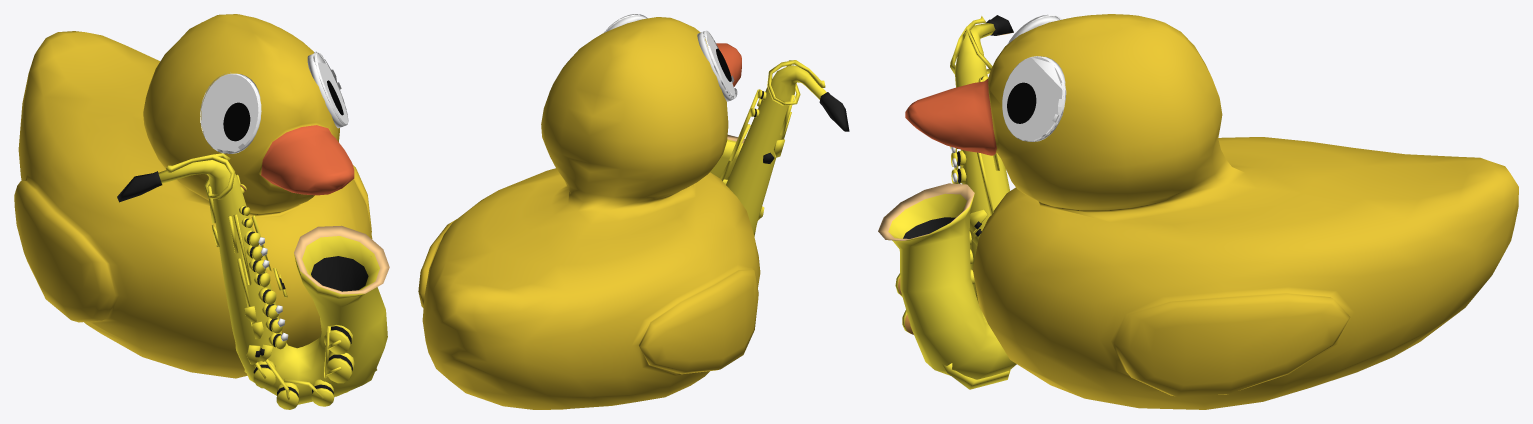
The model's file is ducky.fbx.
3 views of the same model, side by side, from view 1: azimuth 30°, elevation 25°; view 2: azimuth 150°, elevation 25°; view 3: azimuth 270°, elevation 25° (orthographic). The views are drawn at different scales.
Parts seen in each view (by area): view 1: Sphere; view 2: Sphere; view 3: Sphere.
Boxes of the visible parts, x1,y1,x2,y2 form: Sphere: (14, 14, 389, 409); Sphere: (418, 14, 849, 409); Sphere: (878, 14, 1518, 409).
Bounding box in the file's own units: 343 × 342 × 550.
